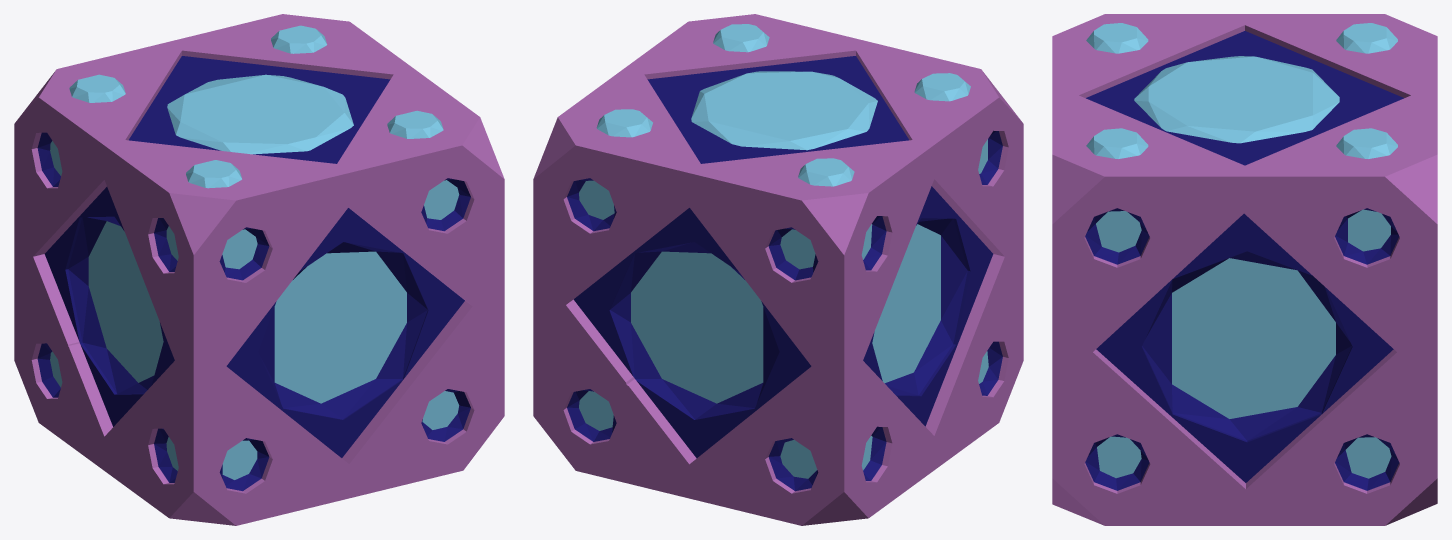
The model's file is Spock_ghost.fbx.
3 views of the same model, side by side, from view 1: azimuth 30°, elevation 25°; view 2: azimuth 150°, elevation 25°; view 3: azimuth 270°, elevation 25° (orthographic). The views are drawn at different scales.
Visible parts, largest first — view 1: Cube.009; view 2: Cube.009; view 3: Cube.009.
Part boxes in pixels (x1,y1,x2,y2): Cube.009: (14, 14, 504, 525); Cube.009: (533, 14, 1023, 525); Cube.009: (1052, 14, 1437, 525).
Size of the model in its own units: 197 by 197 by 202.
